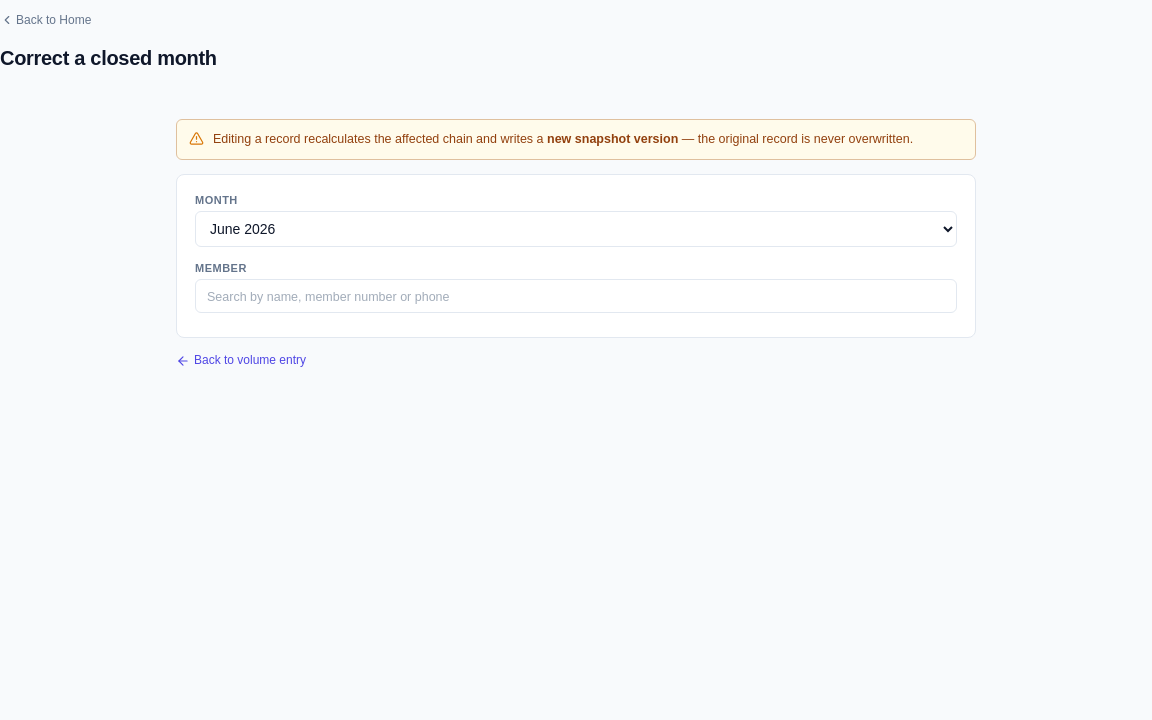
CorrectionPanel › routes a server field error to the date or amount hint based on the error's field
The width and height of the screenshot is (1152, 720).
In the field labelled "Member": (576, 296) [195,279,957,313], type "Asha"
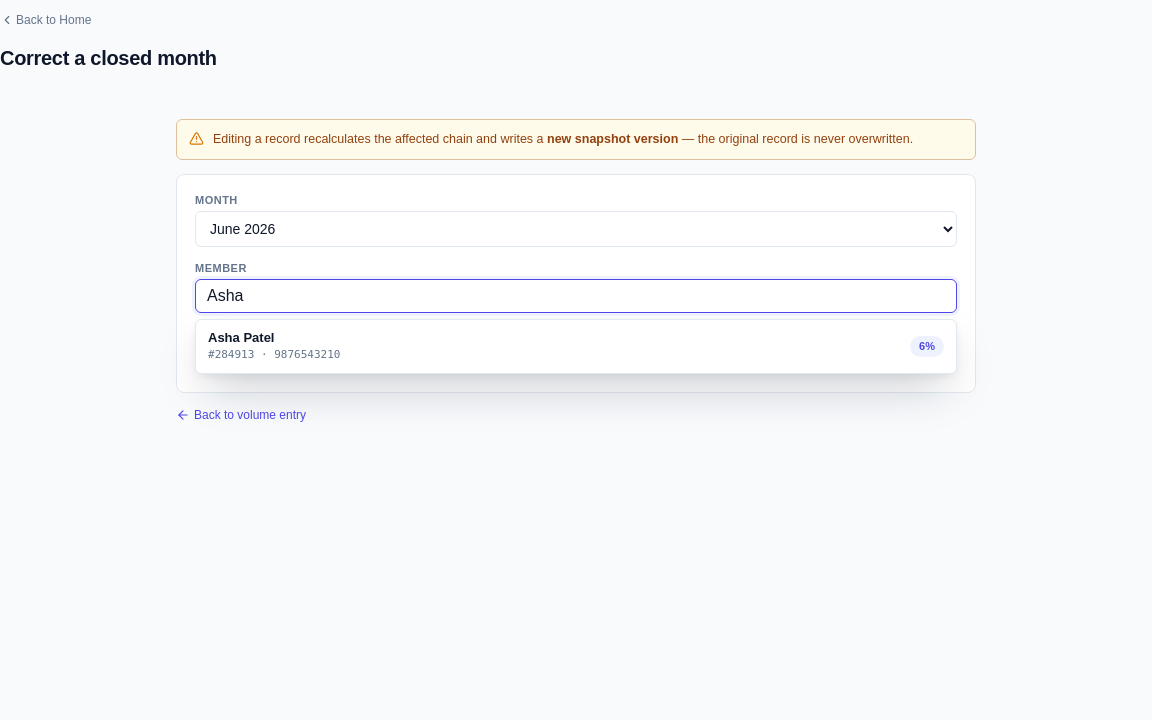
Click the text "Asha Patel": click(241, 338) [208,329,274,347]
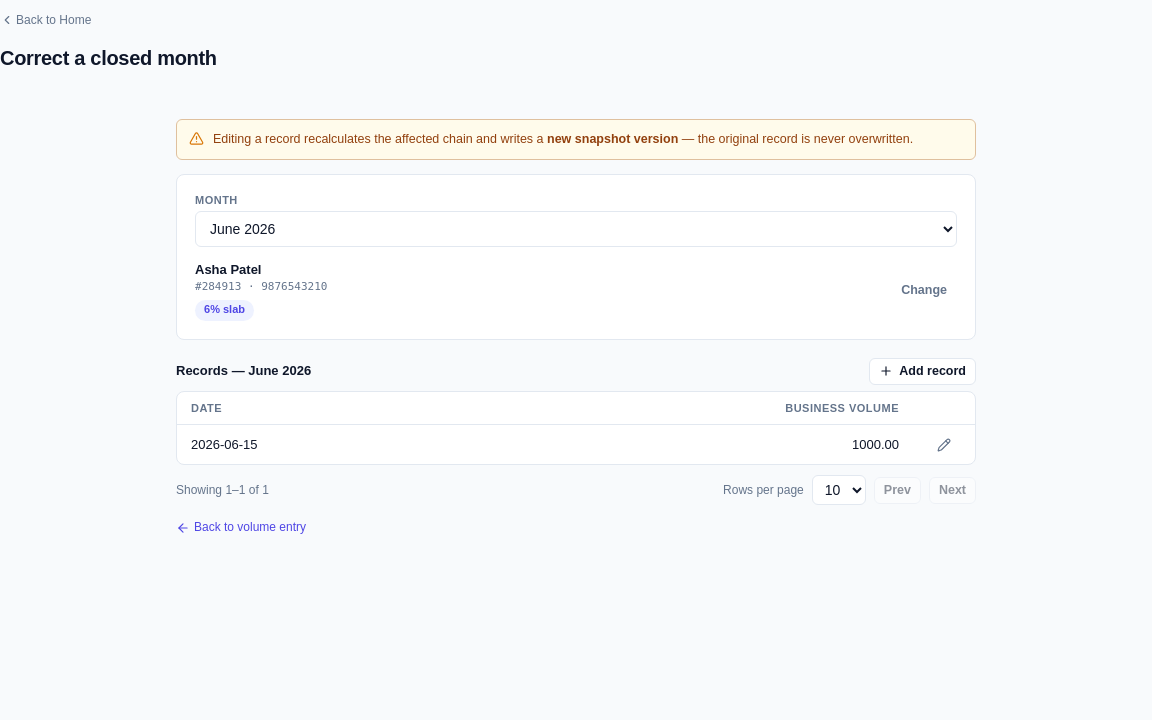
Now the text "2026-06-15" is shown, box [177,424,471,464]
Click the button named "Edit record": click(944, 445) [927,431,961,458]
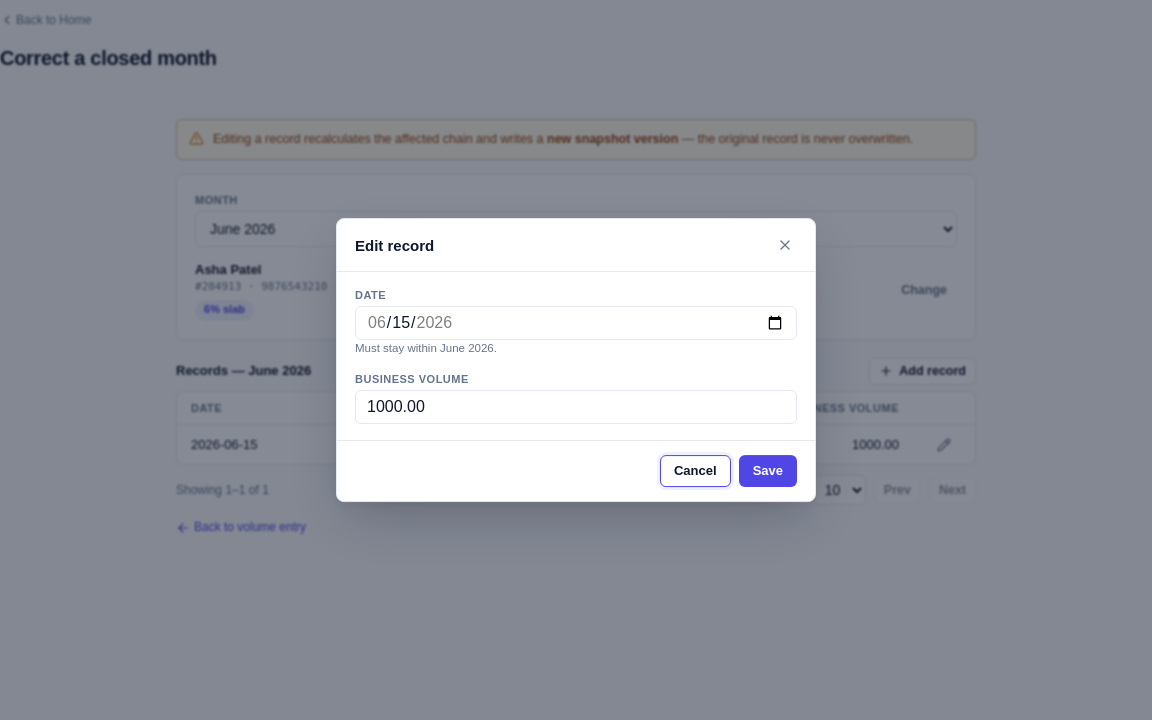
Click the button "Save": click(768, 471) [739,455,797,487]
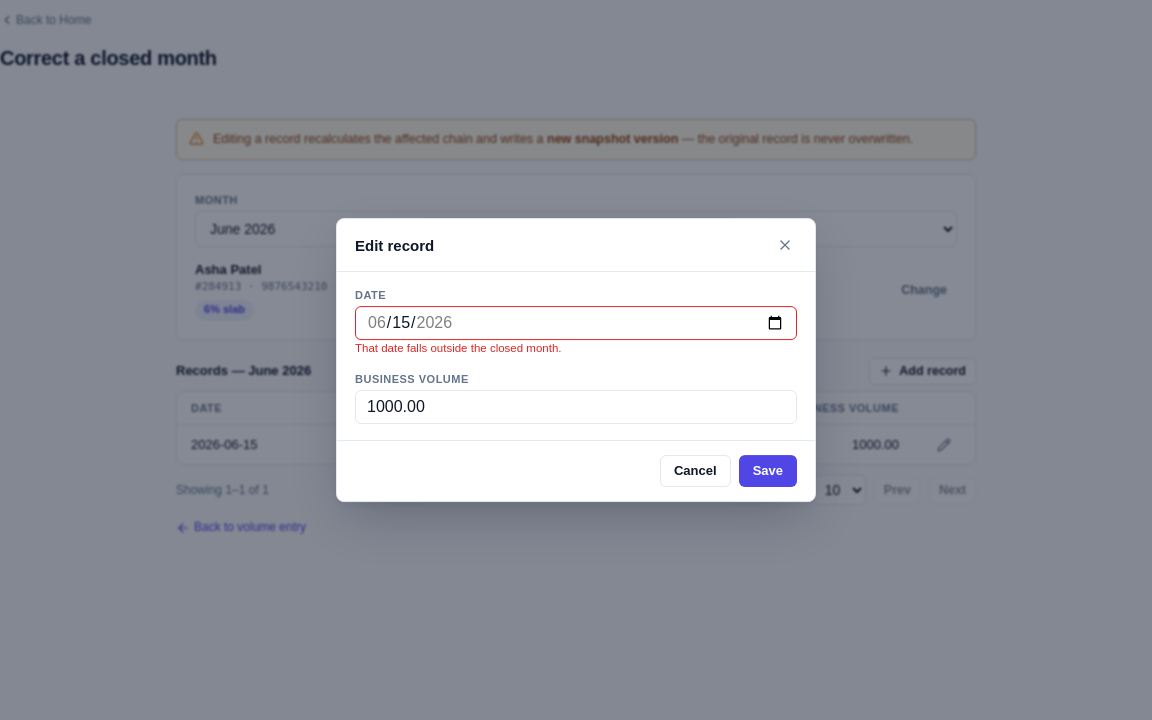
Now the text "That date falls outside the closed month." is shown, box [355,342,562,354]
